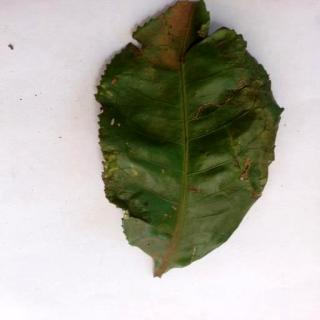Algal Leaf: (95, 2, 284, 279)
